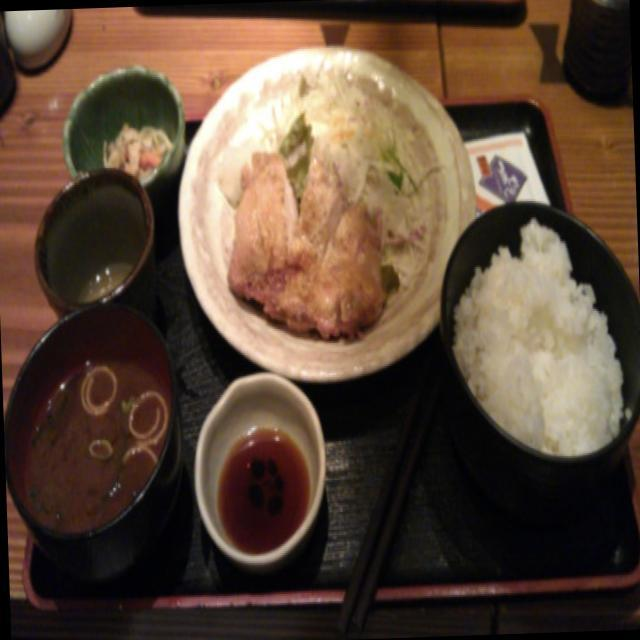Rice: (443, 210, 632, 460)
